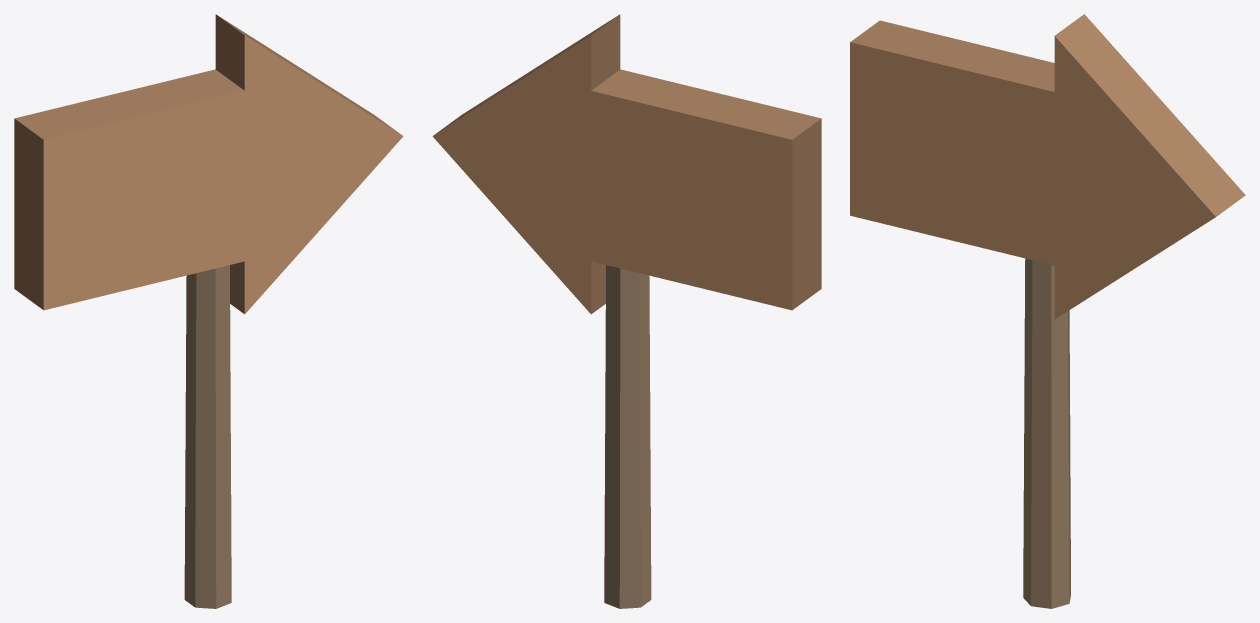
File: arrow-sign.glb
3 views of the same model, side by side, from view 1: azimuth 30°, elevation 25°; view 2: azimuth 150°, elevation 25°; view 3: azimuth 330°, elevation 25° (orthographic).
Visible parts, largest first — view 1: arrow-sign; view 2: arrow-sign; view 3: arrow-sign.
Part boxes in pixels (<box>): arrow-sign: <box>14,14,403,608</box>; arrow-sign: <box>432,14,821,608</box>; arrow-sign: <box>850,14,1245,608</box>.
Size of the model in its own units: 1.7 by 2.57 by 0.24.
